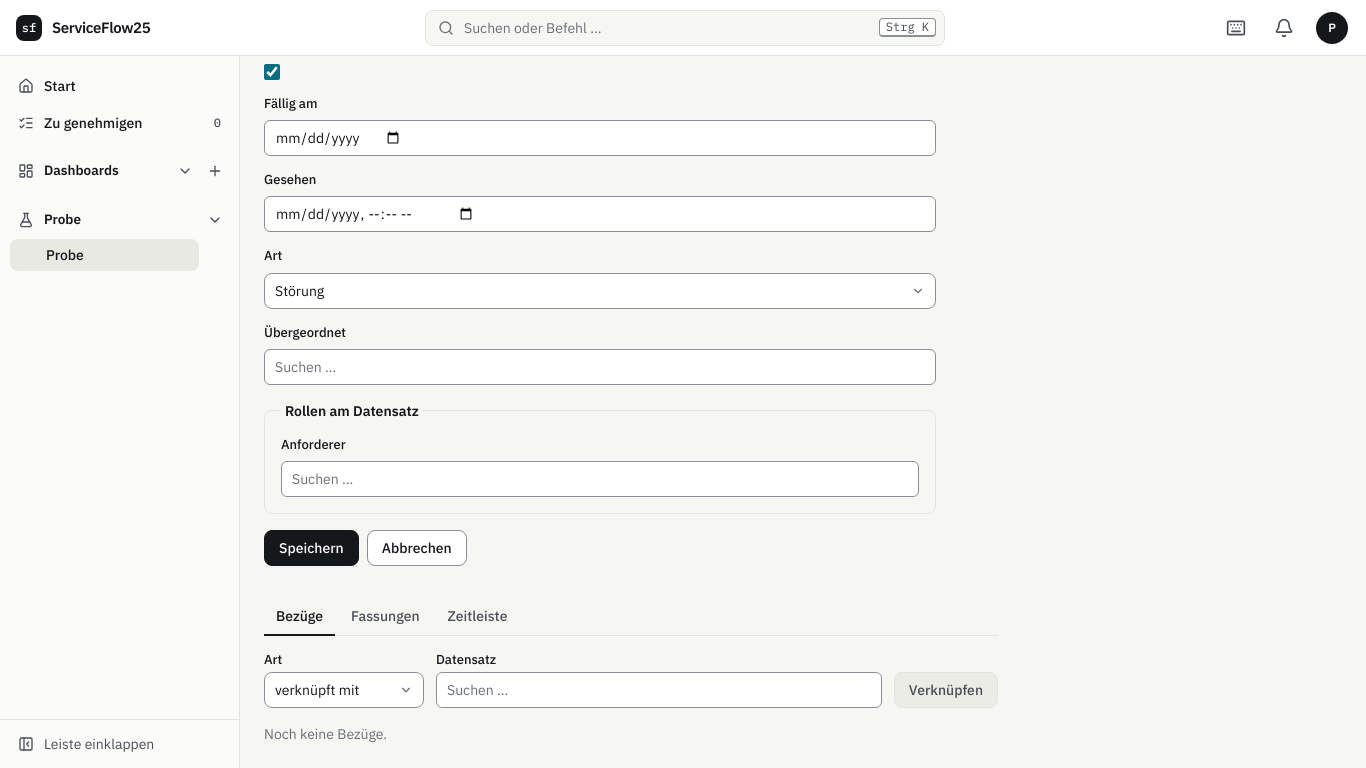
Test: Versions › says when someone saved in between
(page scrolled)
Click the tab "Fassungen". click: (385, 617)
box: [339,598,432,636]
(page scrolled)
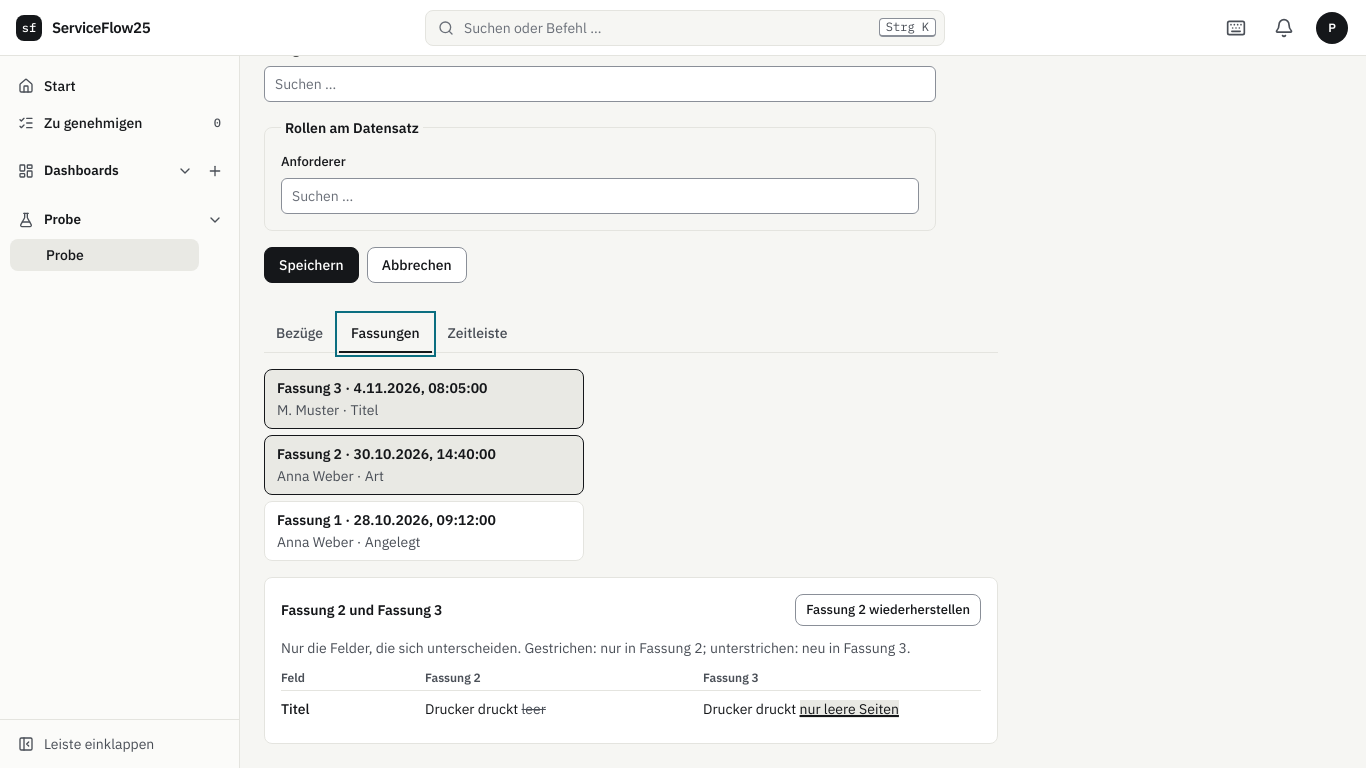
Click the button "Fassung 2 wiederherstellen". click: (888, 610)
box: [795,594,981,626]
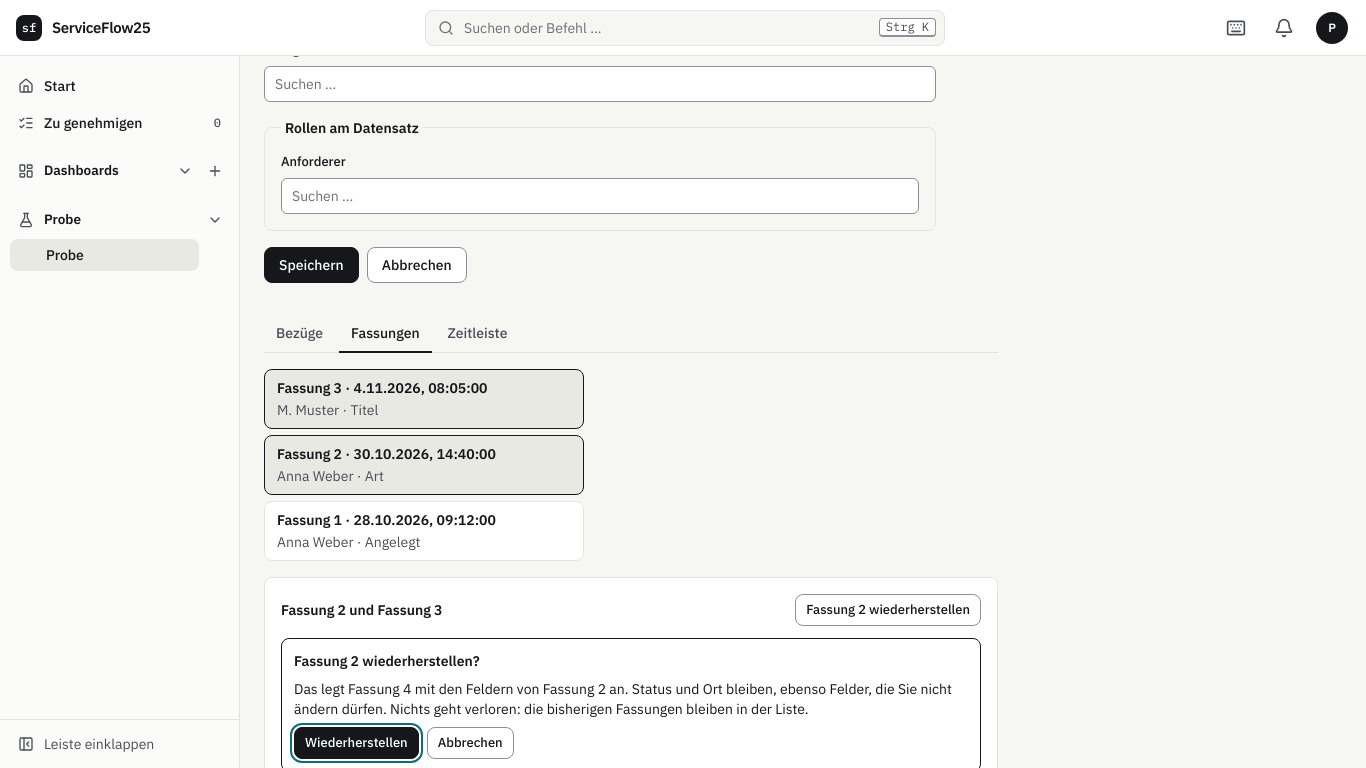
Click the button "Wiederherstellen". click: (356, 743)
box: [294,727,419,759]
(page scrolled)
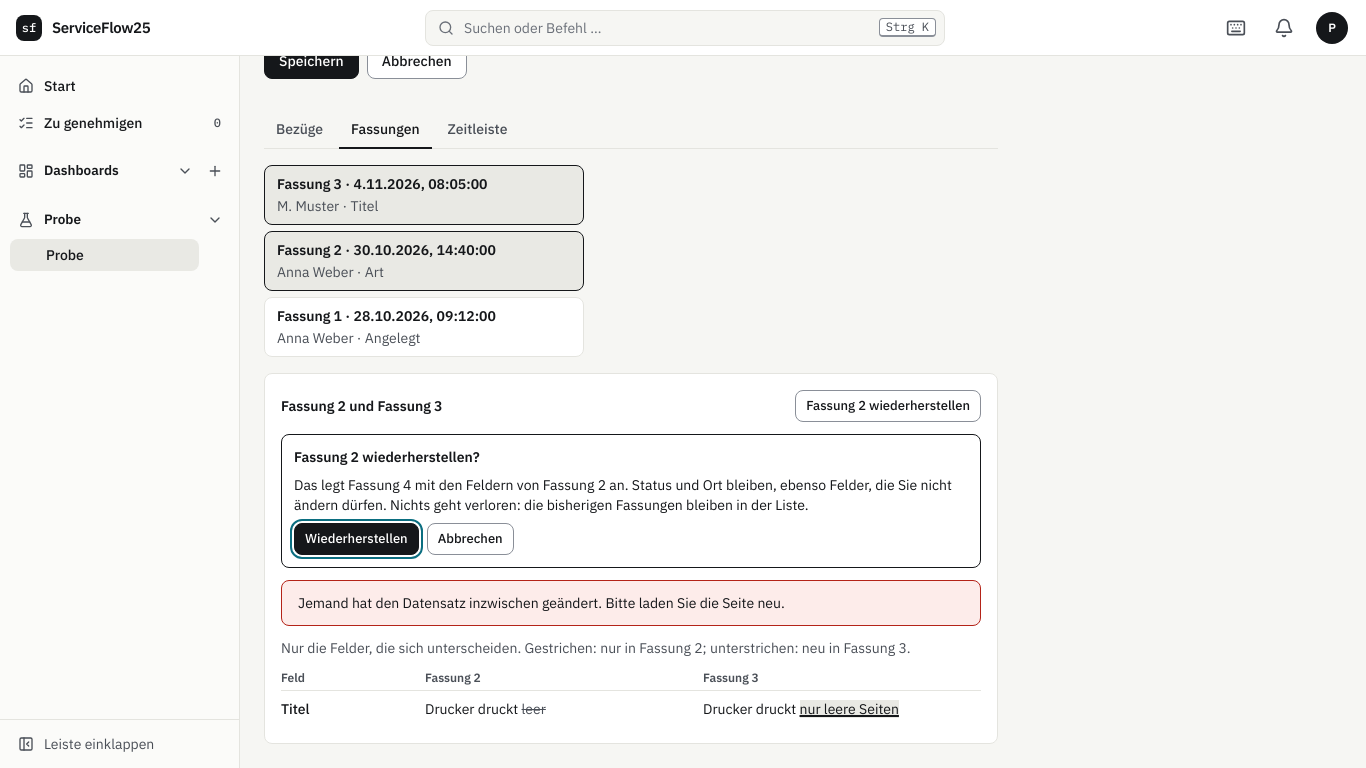
Check: the text "Jemand hat den Datensatz inzwischen geändert. Bitte laden Sie die Seite neu." is shown, box [281,580,981,626]
